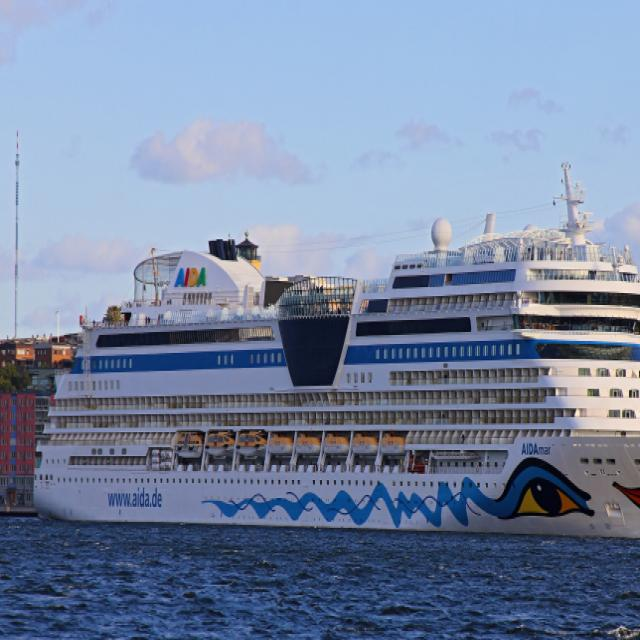cruises: (39, 173, 640, 550)
